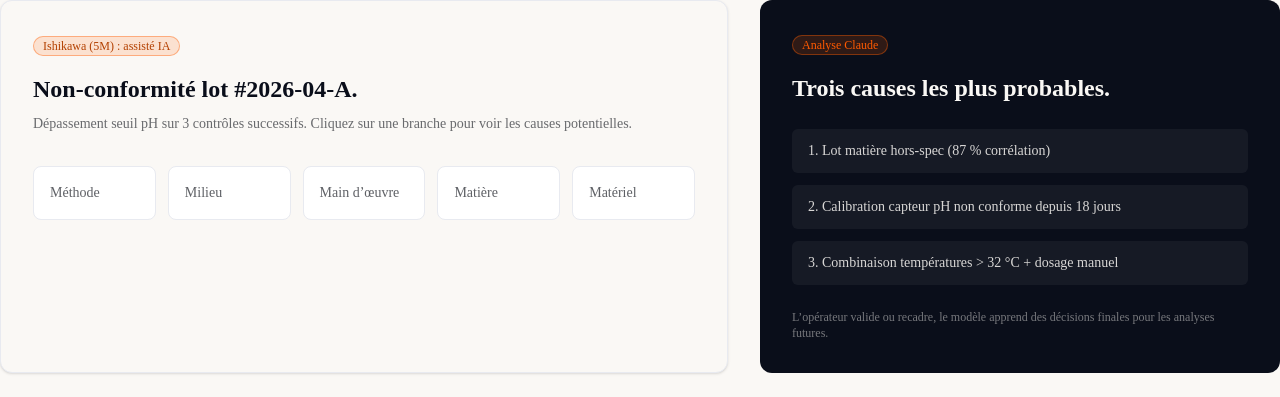
Scenario: QualitOsDemo (Ishikawa 5M) › toggle off au second clic sur la même branche
Click the button "Méthode" at [94, 193], box [33,166,156,220]
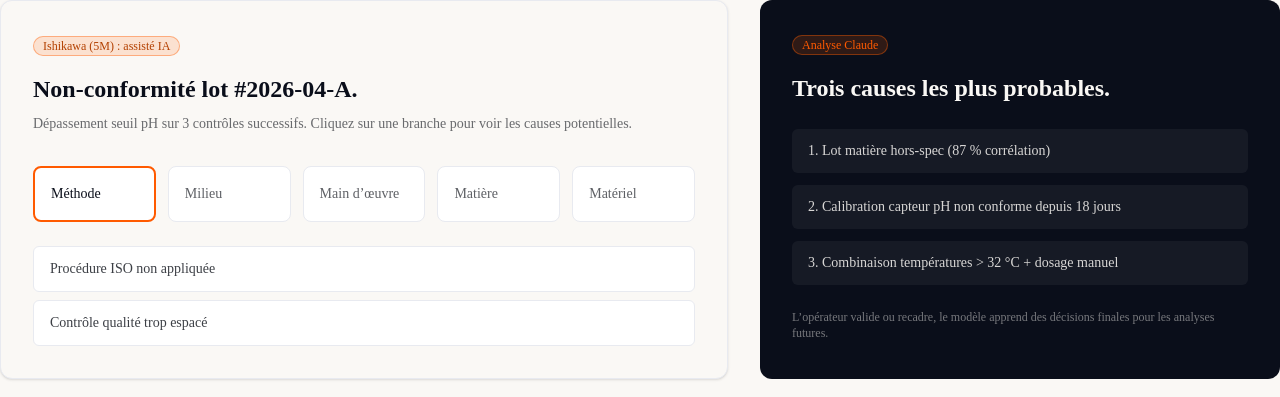
expect the list item "Procédure ISO non appliquée" is shown: met, box [33,246,695,292]
Click the button "Méthode" at [94, 194], box [33,166,156,222]
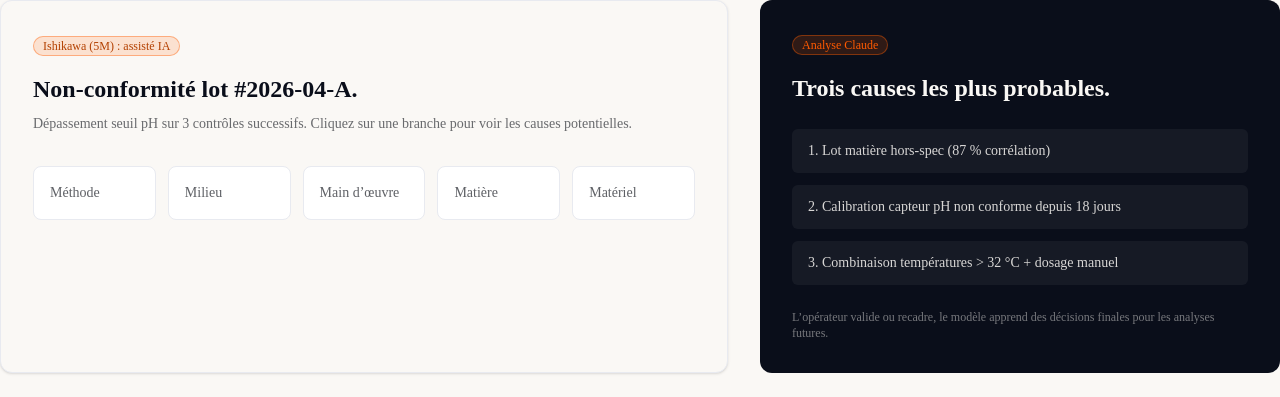
expect the list item "Procédure ISO non appliquée" is gone: met
